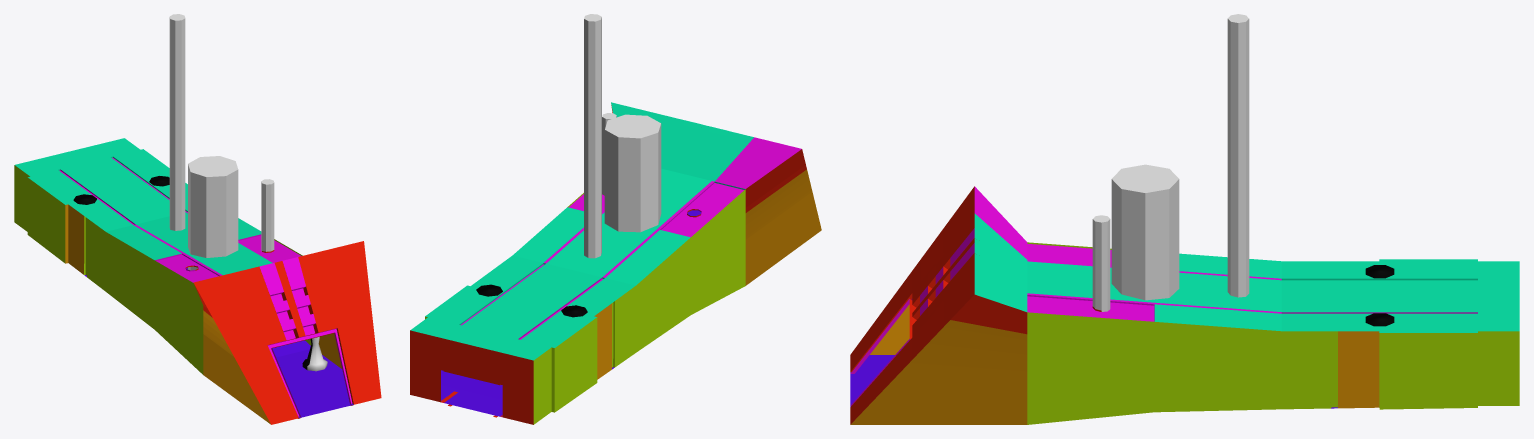
The model's file is gamej2026.fbx.
The picture shows the model from 3 angles, left to right: view 1: azimuth 30°, elevation 25°; view 2: azimuth 150°, elevation 25°; view 3: azimuth 270°, elevation 25°; orthographic projection. The views are drawn at different scales.
Parts seen in each view (by area): view 1: Room, Cylinder.001, Cylinder.002, Cylinder, Pillar.001, Pillar; view 2: Room, Cylinder.001, Cylinder.002, Pillar; view 3: Room, Cylinder.001, Cylinder.002, Cylinder, Pillar.
Boxes of the visible parts, box(x1,y1,x2,y2) form: Room: box(14, 138, 381, 424); Cylinder.001: box(188, 156, 238, 270); Cylinder.002: box(169, 14, 185, 230); Cylinder: box(261, 179, 274, 251); Pillar.001: box(302, 336, 327, 371); Pillar: box(73, 176, 169, 204); Room: box(410, 102, 821, 424); Cylinder.001: box(604, 114, 661, 232); Cylinder.002: box(584, 14, 601, 258); Pillar: box(476, 284, 587, 317); Room: box(850, 186, 1519, 424); Cylinder.001: box(1111, 164, 1179, 300); Cylinder.002: box(1227, 14, 1249, 297); Cylinder: box(1092, 215, 1110, 311); Pillar: box(1365, 265, 1394, 326).
Size of the model in its own units: 382 by 614 by 997.
